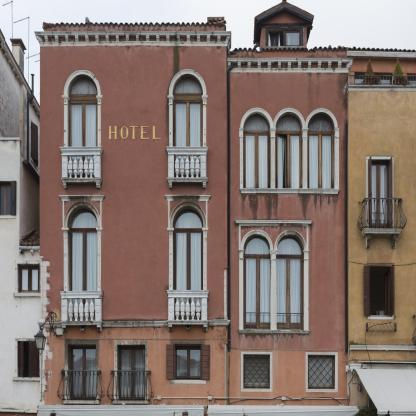Balcony: (173, 228, 204, 320), (67, 228, 97, 319), (59, 147, 103, 182), (166, 146, 208, 182), (60, 291, 104, 325), (166, 290, 209, 324)
Building Outline: (34, 0, 354, 405)
Cornice: (235, 220, 312, 227)
Deco: (109, 126, 162, 140)
Door: (173, 96, 203, 178), (68, 97, 97, 178)
Facade: (34, 1, 354, 406)
Floor: (40, 195, 228, 335), (228, 214, 348, 352), (228, 79, 348, 214), (40, 336, 228, 406), (228, 352, 348, 405)
Floor Slab: (40, 405, 348, 412), (40, 330, 228, 336), (40, 189, 228, 195), (228, 73, 348, 79), (228, 208, 348, 214), (228, 346, 348, 352)
Molding: (34, 31, 231, 47), (227, 57, 354, 70)
Pillar: (269, 249, 278, 330), (302, 250, 310, 330), (238, 249, 245, 329), (301, 128, 309, 188), (333, 128, 340, 189), (269, 128, 276, 188), (239, 128, 244, 188)
Sill: (239, 188, 340, 194), (237, 329, 311, 334)
Top Floor: (40, 47, 228, 195), (262, 13, 307, 79)
Window: (277, 234, 304, 330), (243, 234, 270, 330), (307, 112, 335, 189), (243, 111, 271, 188), (275, 111, 303, 188), (117, 345, 146, 401), (68, 345, 96, 400), (174, 345, 202, 380), (243, 354, 270, 389), (308, 355, 335, 389), (67, 205, 98, 227), (173, 206, 204, 228), (67, 74, 98, 95), (173, 74, 203, 95), (269, 30, 301, 46)
